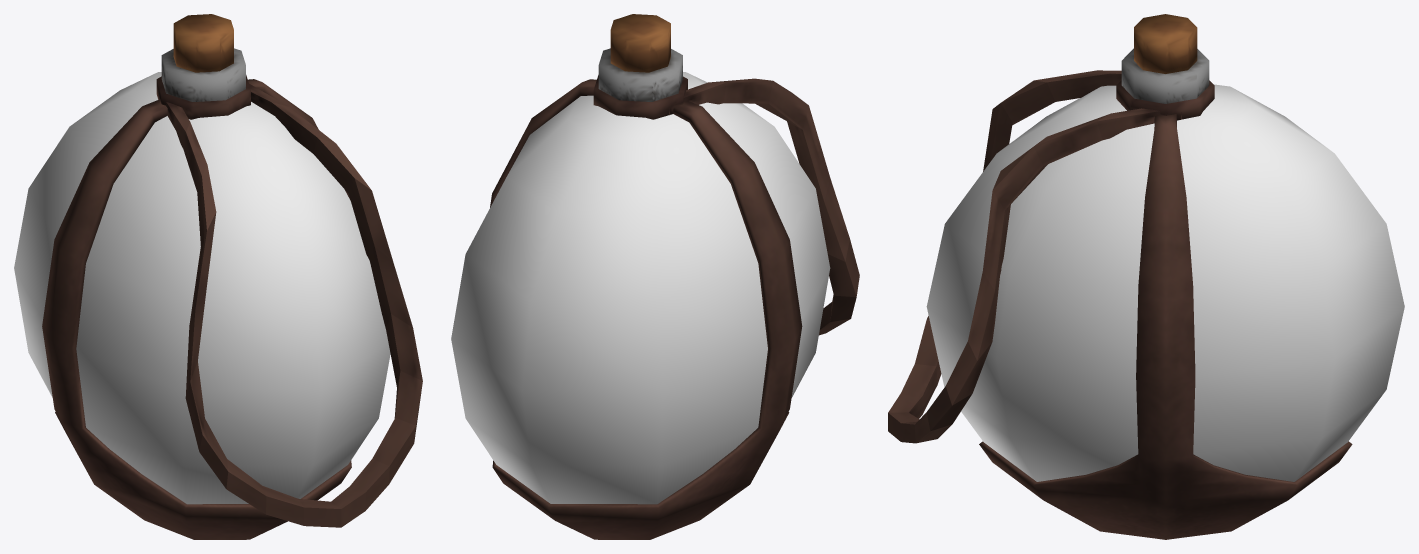
Rendered from StylizedBottleLP.fbx.
3 views of the same model, side by side, from view 1: azimuth 30°, elevation 25°; view 2: azimuth 150°, elevation 25°; view 3: azimuth 270°, elevation 25° (orthographic).
Visible parts, largest first — view 1: Bottle, Bottle holder; view 2: Bottle, Bottle holder; view 3: Bottle, Bottle holder.
Part boxes in pixels (x1,y1,x2,y2): Bottle: (14, 72, 390, 504); Bottle holder: (42, 14, 422, 539); Bottle: (451, 72, 830, 504); Bottle holder: (490, 14, 859, 539); Bottle: (926, 84, 1404, 481); Bottle holder: (888, 14, 1352, 539).
Size of the model in its own units: 151 by 231 by 216.
